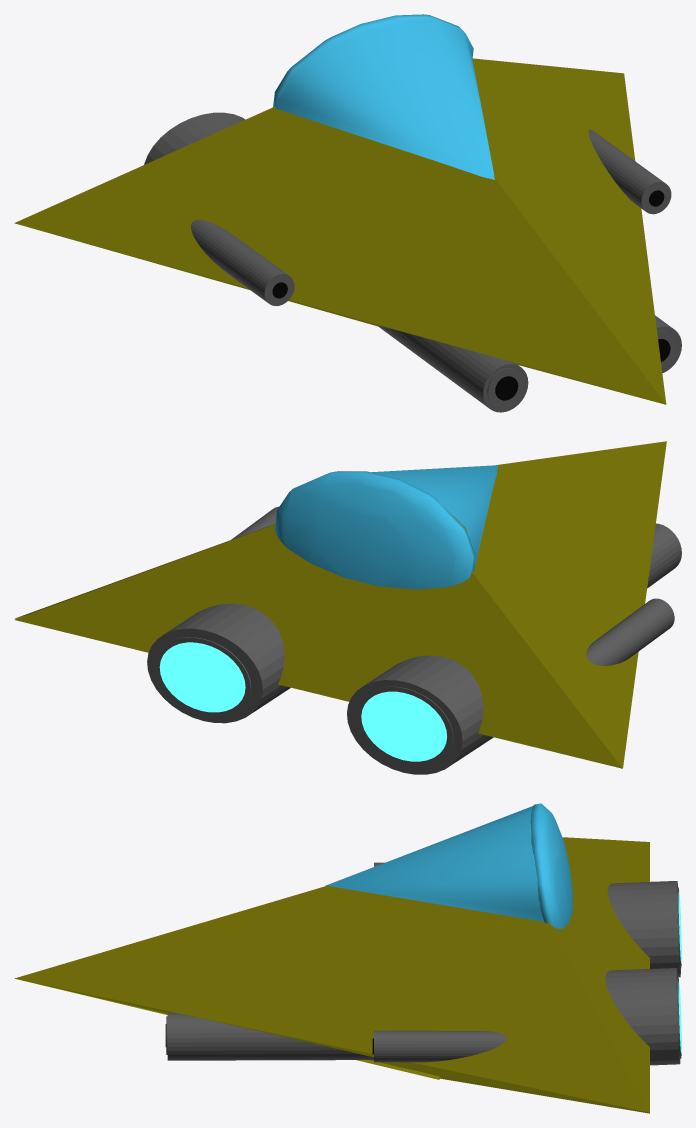
The model's file is nave amarilla.fbx.
The picture shows the model from 3 angles, top to bottom: view 1: azimuth 30°, elevation 25°; view 2: azimuth 150°, elevation 25°; view 3: azimuth 270°, elevation 25°; orthographic projection. The views are drawn at different scales.
Parts seen in each view (by area): view 1: Plane.001, Cone, Cylinder.005, Cylinder.002, Cylinder.003, Cylinder, Mball, Cylinder.007; view 2: Plane.001, Mball, Cylinder.001, Cylinder, Cylinder.012, Cylinder.013, Cone, Cylinder.002, Cylinder.014, Cylinder.015, Cylinder.005; view 3: Plane.001, Cone, Cylinder.004, Cylinder.001, Cylinder, Mball, Cylinder.003.
Part boxes in pixels (<box>): Plane.001: <box>14,58,666,404</box>; Cone: <box>275,21,494,179</box>; Cylinder.005: <box>376,325,528,412</box>; Cylinder.002: <box>191,220,294,306</box>; Cylinder.003: <box>588,129,671,214</box>; Cylinder: <box>144,112,245,164</box>; Mball: <box>273,14,473,109</box>; Cylinder.007: <box>487,368,524,407</box>; Plane.001: <box>14,441,666,768</box>; Mball: <box>275,471,475,589</box>; Cylinder.001: <box>147,603,290,723</box>; Cylinder: <box>347,655,493,774</box>; Cylinder.012: <box>159,642,245,712</box>; Cylinder.013: <box>361,691,446,761</box>; Cone: <box>371,465,498,571</box>; Cylinder.002: <box>586,598,674,665</box>; Cylinder.014: <box>153,637,251,716</box>; Cylinder.015: <box>356,686,453,765</box>; Cylinder.005: <box>647,523,681,588</box>; Plane.001: <box>14,837,649,1113</box>; Cone: <box>325,806,544,921</box>; Cylinder.004: <box>167,1013,373,1060</box>; Cylinder.001: <box>605,968,680,1065</box>; Cylinder: <box>607,881,680,977</box>; Mball: <box>530,803,572,928</box>; Cylinder.003: <box>374,1030,506,1062</box>.
Bounding box in the file's own units: 6.01 × 2.68 × 6.24.
